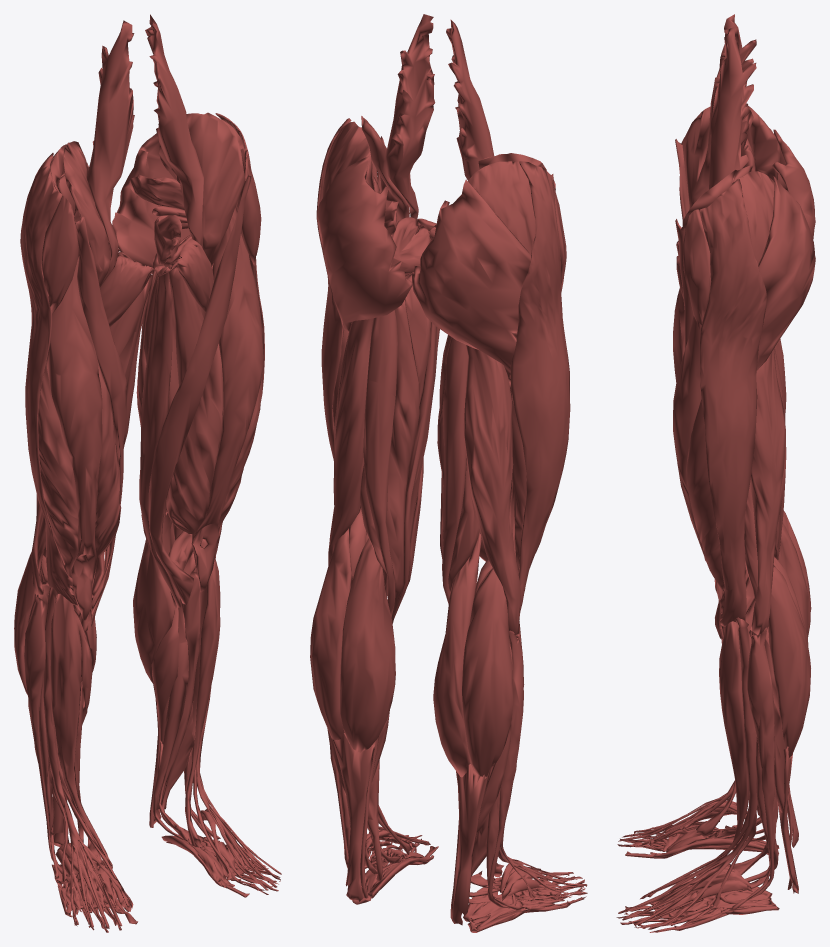
Rendered from lower-limbs.glb.
The picture shows the model from 3 angles, left to right: view 1: azimuth 30°, elevation 25°; view 2: azimuth 150°, elevation 25°; view 3: azimuth 270°, elevation 25°; orthographic projection. The views are drawn at different scales.
Visible parts, largest first — view 1: FMA38928, FMA38929, FMA22355, FMA58776, FMA22342, FMA38933, FMA43884, FMA22544, FMA22323, FMA22354, FMA22343, FMA38930 (+35 smaller); view 2: FMA58776, FMA22328, FMA22329, FMA45888, FMA45958, FMA45960, FMA22359, FMA22449, FMA45889, FMA45957, FMA22343, FMA45961 (+23 smaller); view 3: FMA58777, FMA45889, FMA22329, FMA45961, FMA22343, FMA22553, FMA22545, FMA22549, FMA38929, FMA38931, FMA22426, FMA22331 (+24 smaller).
Part boxes in pixels (x1,y1,x2,y2): FMA38928: (46,256,102,620); FMA38929: (191,206,263,592); FMA22355: (148,174,251,604); FMA58776: (20,153,77,604); FMA22342: (87,20,134,286); FMA38933: (166,344,223,567); FMA43884: (139,268,180,607); FMA22544: (50,594,112,868); FMA22323: (186,112,244,266); FMA22354: (74,216,126,629); FMA22343: (145,14,203,247); FMA38930: (38,362,79,610); FMA58776: (510,161,570,612); FMA22328: (411,179,530,371); FMA22329: (317,156,412,331); FMA45888: (463,345,520,635); FMA45958: (340,538,395,752); FMA45960: (461,568,513,776); FMA22359: (363,310,397,616); FMA22449: (360,299,419,600); FMA45889: (328,318,373,565); FMA45957: (433,533,481,777); FMA22343: (386,14,435,219); FMA45961: (310,528,352,740); FMA58777: (699,179,766,626); FMA45889: (750,349,786,635); FMA22329: (756,176,815,370); FMA45961: (768,565,810,757); FMA22343: (709,27,756,189); FMA22553: (720,627,774,903); FMA22545: (695,621,749,876); FMA22549: (618,617,757,929); FMA38929: (673,316,722,638); FMA38931: (687,399,745,628); FMA22426: (683,209,711,330); FMA22331: (736,171,774,264).
Bounding box in the file's own units: 0.3118 × 1.11 × 0.2327.
